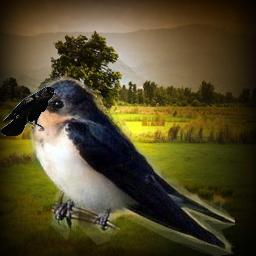Crow: (1, 86, 58, 136)
Swallow: (19, 75, 235, 256)
